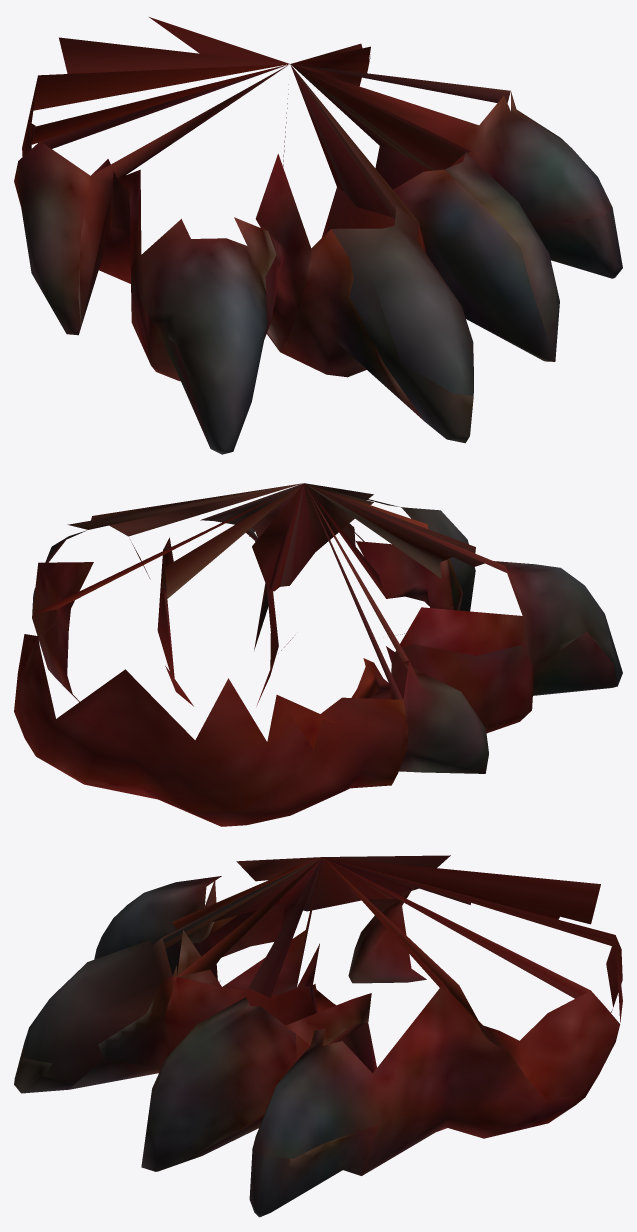
File: dragon_paw_fposx.glb
The picture shows the model from 3 angles, top to bottom: view 1: azimuth 30°, elevation 25°; view 2: azimuth 150°, elevation 25°; view 3: azimuth 270°, elevation 25°; orthographic projection. The views are drawn at different scales.
Size of the model in its own units: 3.21 by 1.61 by 3.66.
1 material, 1 textured.
